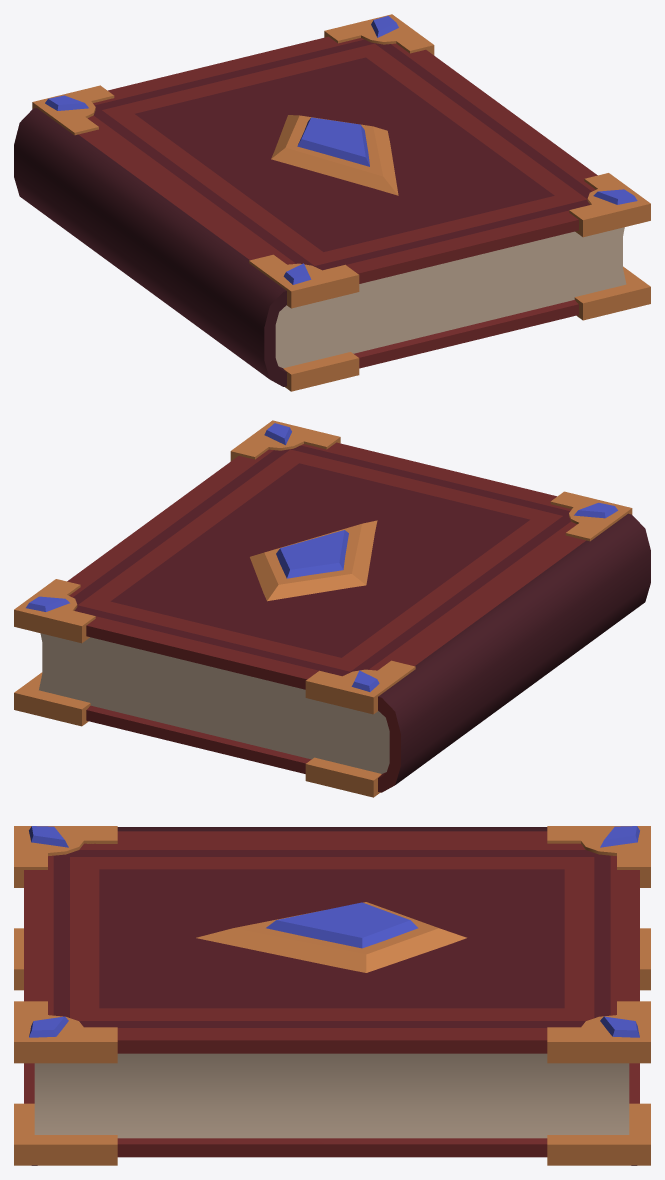
File: Book_02.fbx
The picture shows the model from 3 angles, top to bottom: view 1: azimuth 30°, elevation 25°; view 2: azimuth 150°, elevation 25°; view 3: azimuth 270°, elevation 25°; orthographic projection. The views are drawn at different scales.
Visible parts, largest first — view 1: Book_02; view 2: Book_02; view 3: Book_02.
Boxes of the visible parts, x1,y1,x2,y2 form: Book_02: [14, 14, 650, 391]; Book_02: [14, 420, 650, 797]; Book_02: [14, 826, 650, 1165].
Size of the model in its own units: 0.2657 by 0.0777 by 0.3112.
